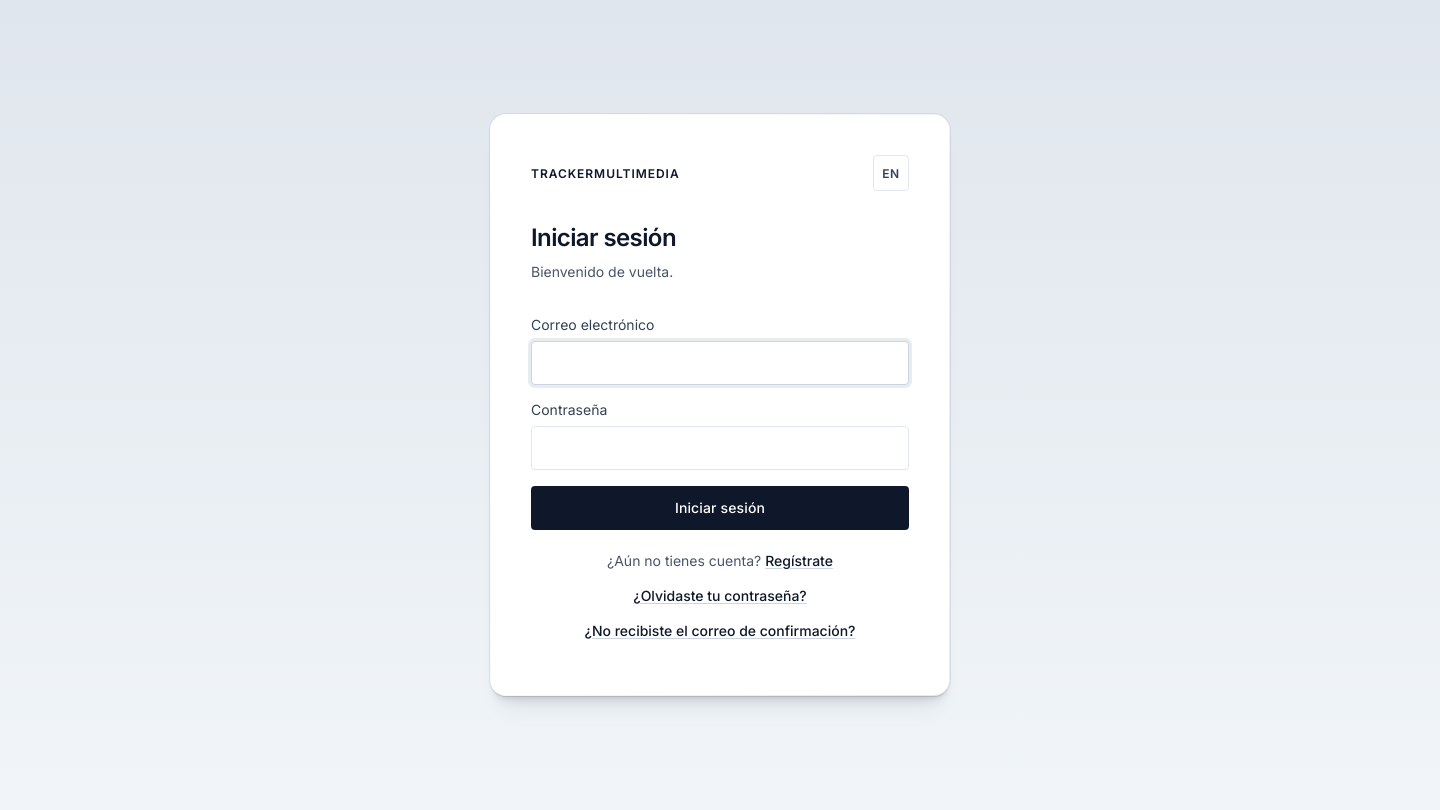
Scenario: LoginView › shows the extracted manual login error
In the field labelled "Correo electrónico": (720, 363) [531,341,909,385], type "user@test.com"
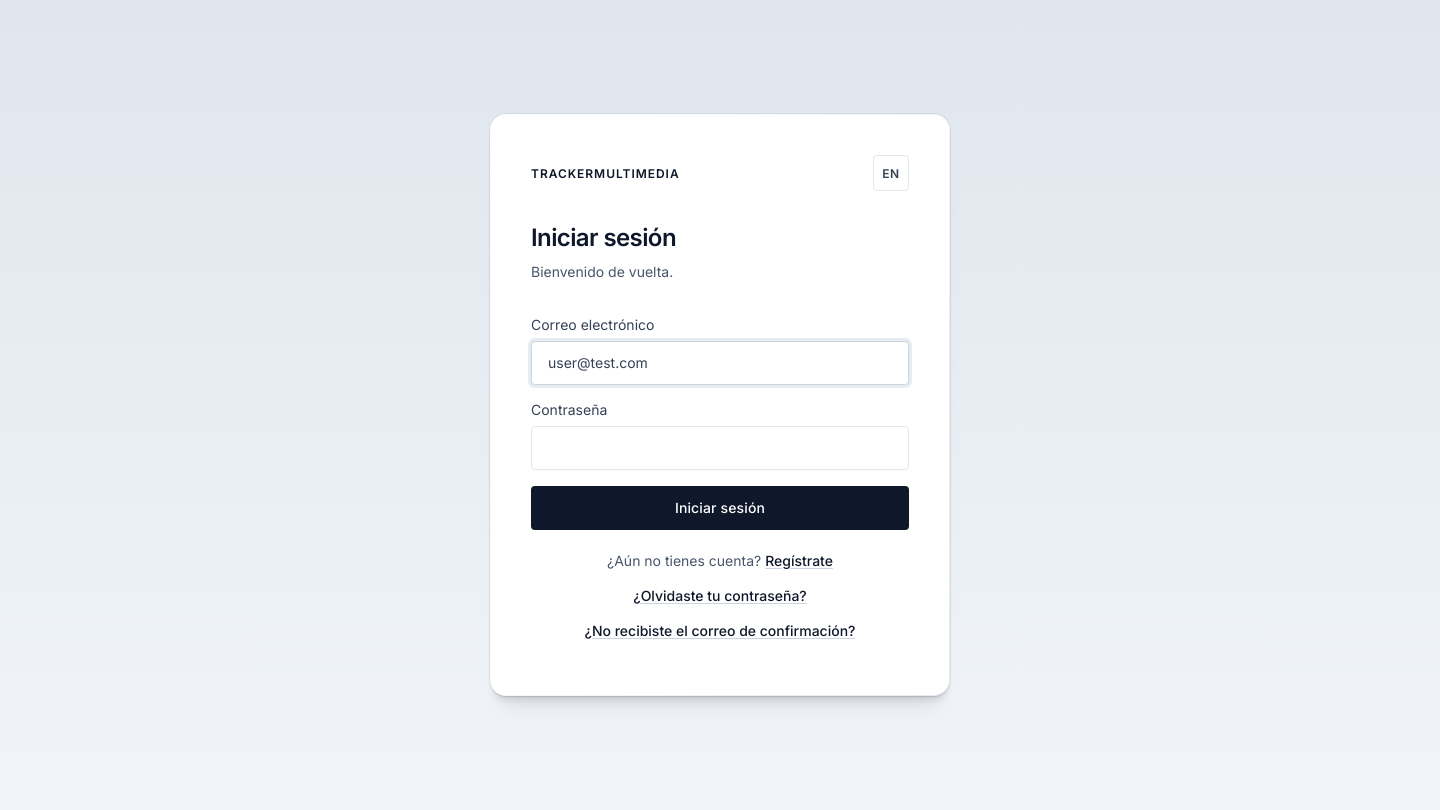
In the password field labelled "Contraseña": (720, 448) [531,426,909,470], type "wrong-pass"
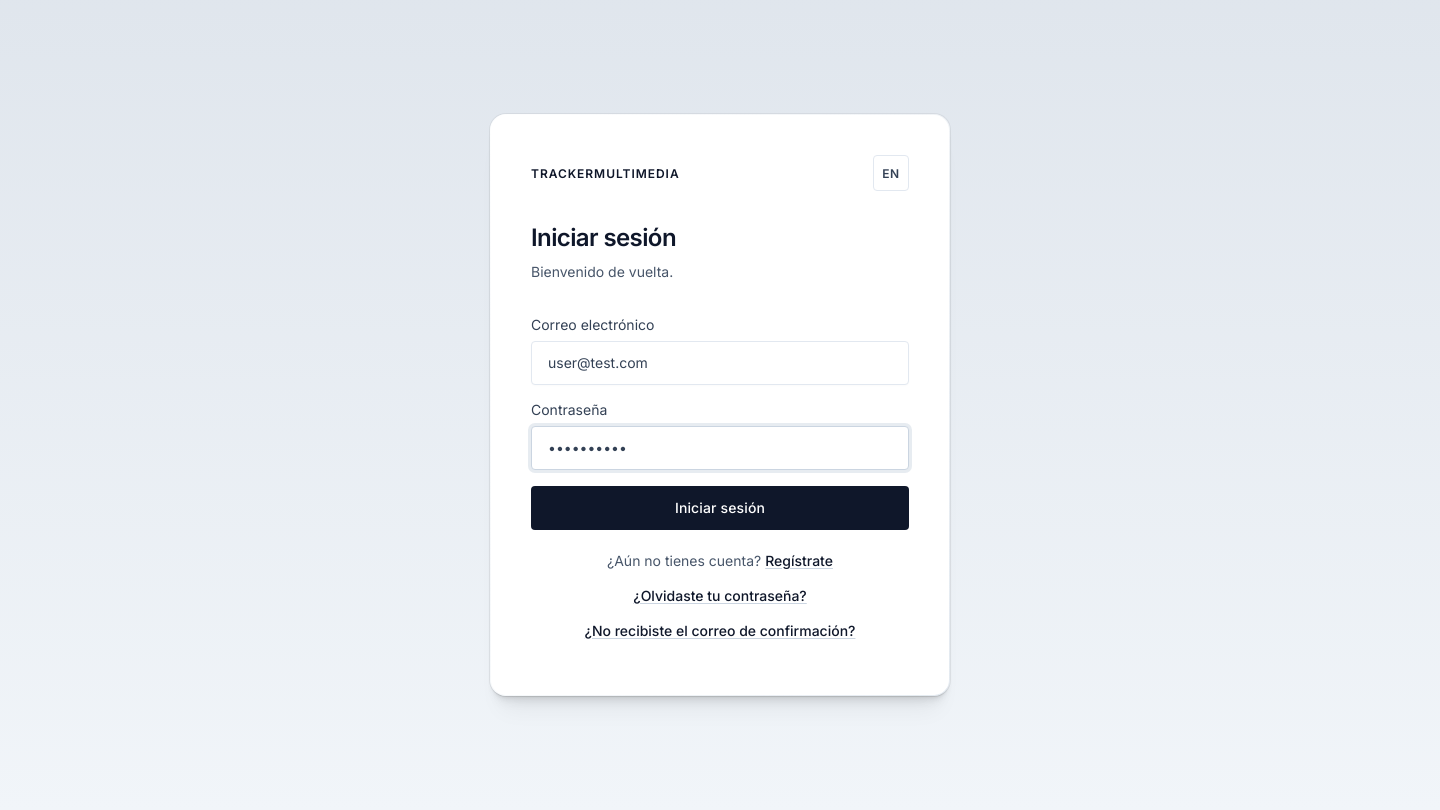
Click the button "Iniciar sesión": (720, 508) [531,486,909,530]
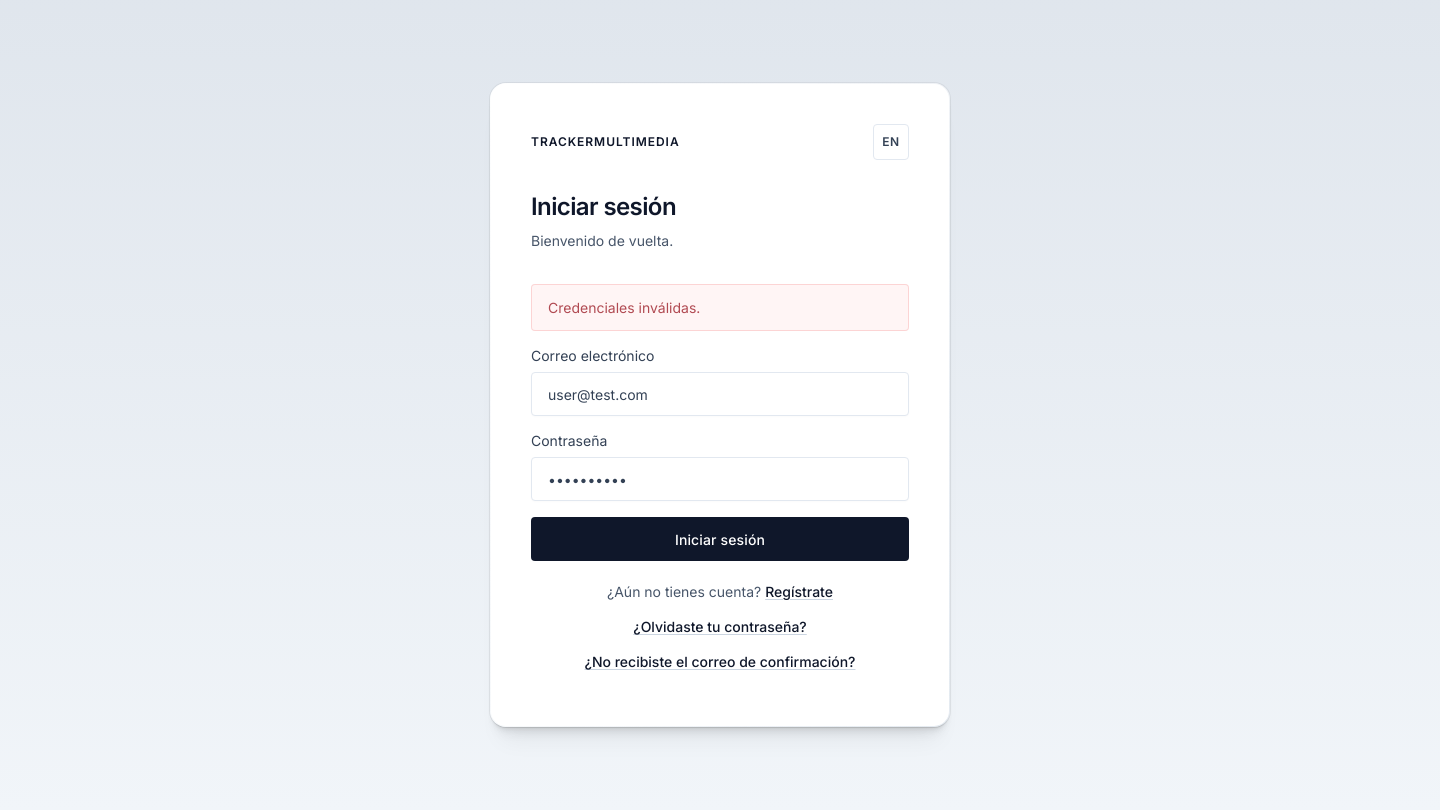
Now the message reads "Credenciales inválidas.", box [548,299,700,316]
